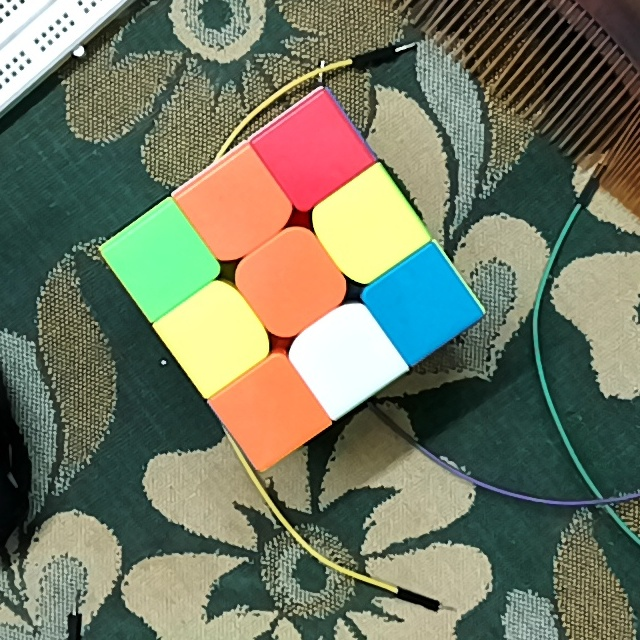tile: (200, 177, 269, 238), (183, 304, 245, 369), (280, 122, 345, 183), (262, 249, 325, 310), (241, 383, 305, 442), (394, 269, 452, 334), (314, 327, 377, 385), (133, 232, 194, 291), (340, 197, 400, 254)
